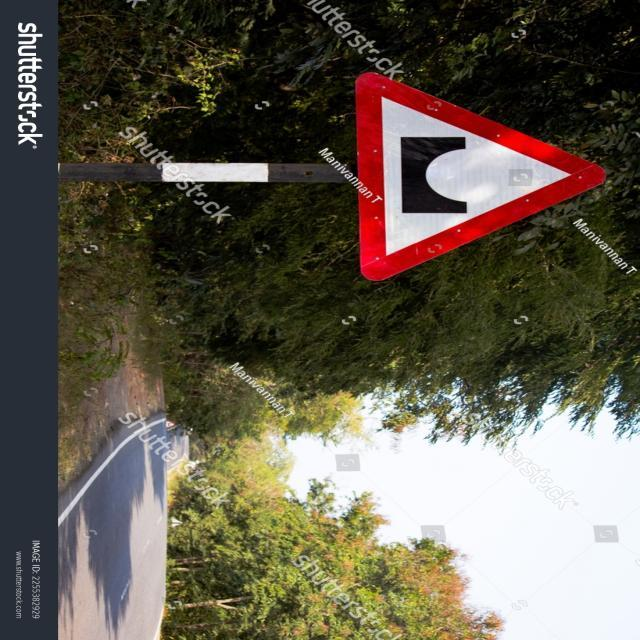Traffic sign: (350, 64, 610, 288)
